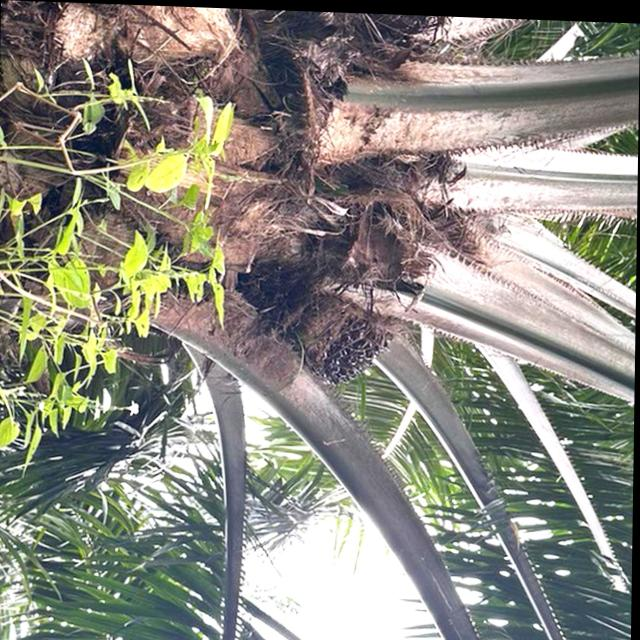almost: (279, 282, 403, 397)
